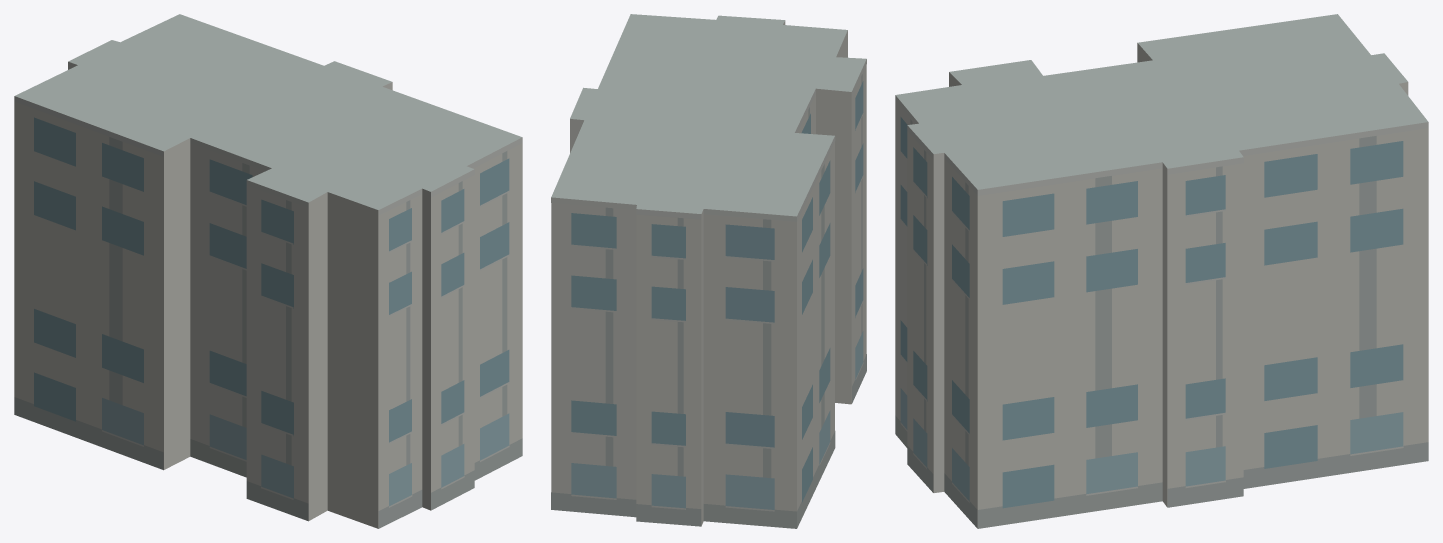
The model's file is survey-upis-32964473.glb.
3 views of the same model, side by side, from view 1: azimuth 30°, elevation 25°; view 2: azimuth 150°, elevation 25°; view 3: azimuth 270°, elevation 25° (orthographic). The views are drawn at different scales.
Visible parts, largest first — view 1: survey-upis-32964473.tmp; view 2: survey-upis-32964473.tmp; view 3: survey-upis-32964473.tmp.
Boxes of the visible parts, <box> form: survey-upis-32964473.tmp: <box>14,14,522,528</box>; survey-upis-32964473.tmp: <box>551,14,866,528</box>; survey-upis-32964473.tmp: <box>895,14,1428,528</box>.
Size of the model in its own units: 15.47 by 13.9 by 19.83.
